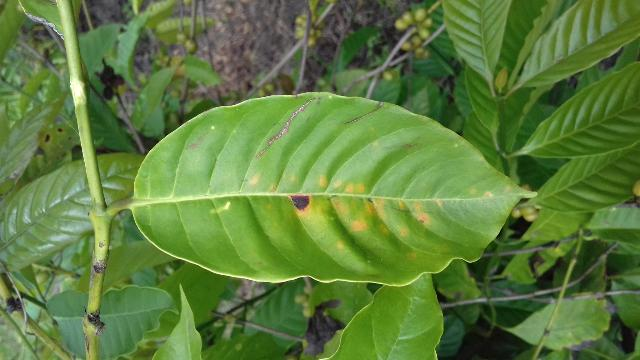rust_level_2: (129, 86, 549, 291)
